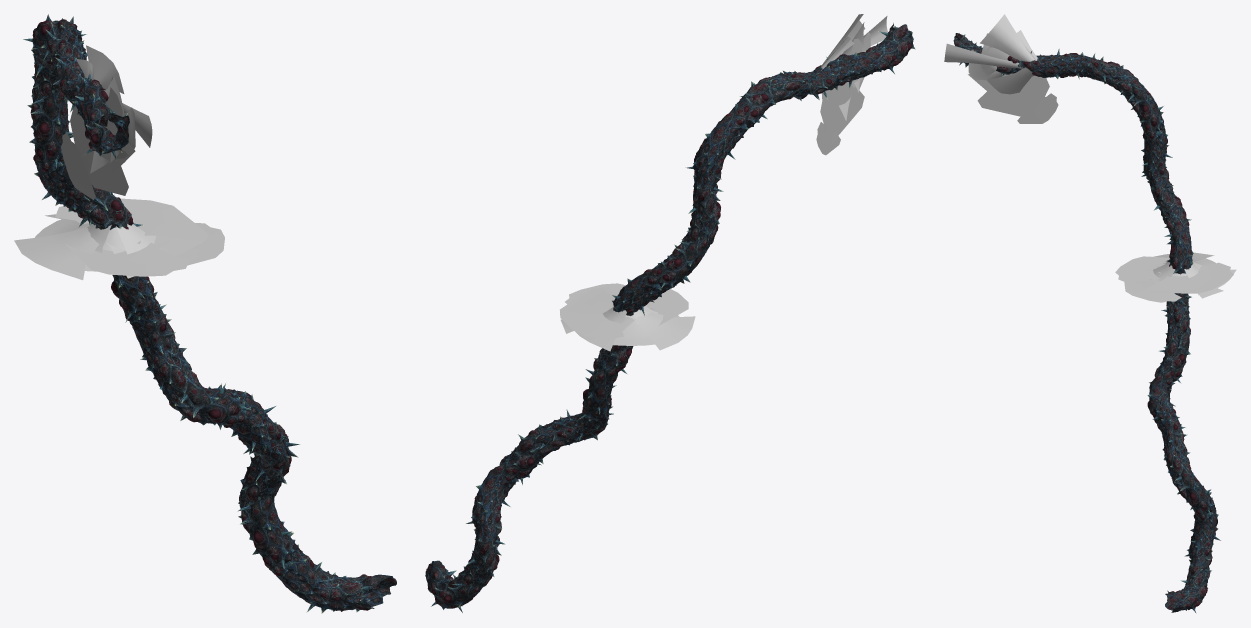
The model's file is backup.fbx.
3 views of the same model, side by side, from view 1: azimuth 30°, elevation 25°; view 2: azimuth 150°, elevation 25°; view 3: azimuth 270°, elevation 25° (orthographic). The views are drawn at different scales.
Visible parts, largest first — view 1: LODGroup_1_MainMesh_1_SubMesh_1, LODGroup_1_MainMesh_2_SubMesh_2, LODGroup_1_MainMesh_2_SubMesh_1; view 2: LODGroup_1_MainMesh_2_SubMesh_1, LODGroup_1_MainMesh_2_SubMesh_2, LODGroup_1_MainMesh_1_SubMesh_1; view 3: LODGroup_1_MainMesh_1_SubMesh_1, LODGroup_1_MainMesh_2_SubMesh_1, LODGroup_1_MainMesh_2_SubMesh_2.
Part boxes in pixels (x1,y1,x2,y2): LODGroup_1_MainMesh_1_SubMesh_1: (14, 45, 224, 280); LODGroup_1_MainMesh_2_SubMesh_2: (31, 22, 383, 613); LODGroup_1_MainMesh_2_SubMesh_1: (23, 14, 396, 612); LODGroup_1_MainMesh_2_SubMesh_1: (425, 24, 913, 612); LODGroup_1_MainMesh_2_SubMesh_2: (439, 23, 915, 609); LODGroup_1_MainMesh_1_SubMesh_1: (560, 14, 887, 351); LODGroup_1_MainMesh_1_SubMesh_1: (944, 14, 1236, 302); LODGroup_1_MainMesh_2_SubMesh_1: (954, 33, 1220, 613); LODGroup_1_MainMesh_2_SubMesh_2: (953, 39, 1218, 612).
Size of the model in its own units: 2072 by 3239 by 1805.
